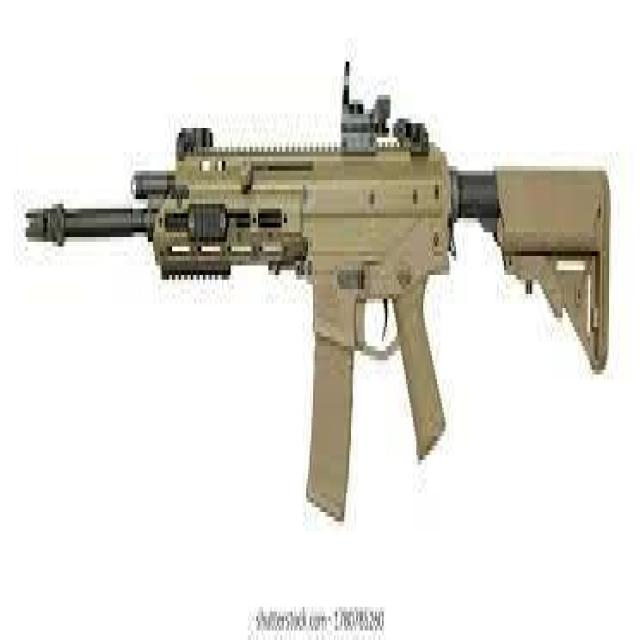Gun: (12, 104, 640, 524)
